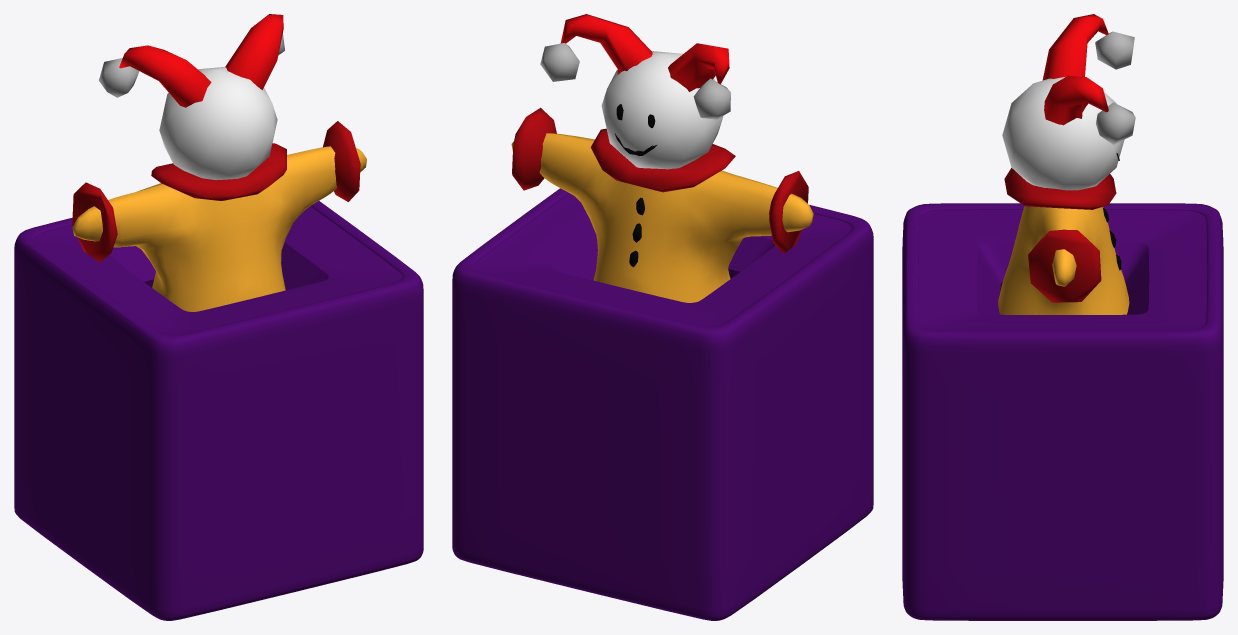
Rendered from JackintheBox.fbx.
3 renders of one model, left to right at view 1: azimuth 30°, elevation 25°; view 2: azimuth 150°, elevation 25°; view 3: azimuth 270°, elevation 25°, orthographic. The views are drawn at different scales.
Visible parts, largest first — view 1: Cube, Cylinder, Icosphere, Cone, Cone.001, Torus; view 2: Cube, Cylinder, Icosphere, Cone, Cone.001, Torus; view 3: Cube, Icosphere, Cylinder, Cone, Cone.001, Torus.
Part boxes in pixels (left/top/right/bottom): Cube: left=14, top=201, right=423, bottom=620; Cylinder: left=72, top=146, right=366, bottom=311; Icosphere: left=159, top=67, right=277, bottom=180; Cone: left=99, top=14, right=284, bottom=107; Cone.001: left=72, top=121, right=360, bottom=262; Torus: left=151, top=143, right=286, bottom=200; Cube: left=452, top=188, right=873, bottom=620; Cylinder: left=511, top=133, right=813, bottom=302; Icosphere: left=601, top=51, right=723, bottom=169; Cone: left=540, top=14, right=730, bottom=119; Cone.001: left=512, top=107, right=808, bottom=253; Torus: left=590, top=128, right=735, bottom=192; Cube: left=902, top=203, right=1223, bottom=620; Icosphere: left=1002, top=77, right=1124, bottom=190; Cylinder: left=998, top=206, right=1129, bottom=314; Cone: left=1042, top=14, right=1135, bottom=144; Cone.001: left=1028, top=229, right=1101, bottom=302; Torus: left=1004, top=168, right=1116, bottom=209.
Size of the model in its own units: 214 by 351 by 200.
